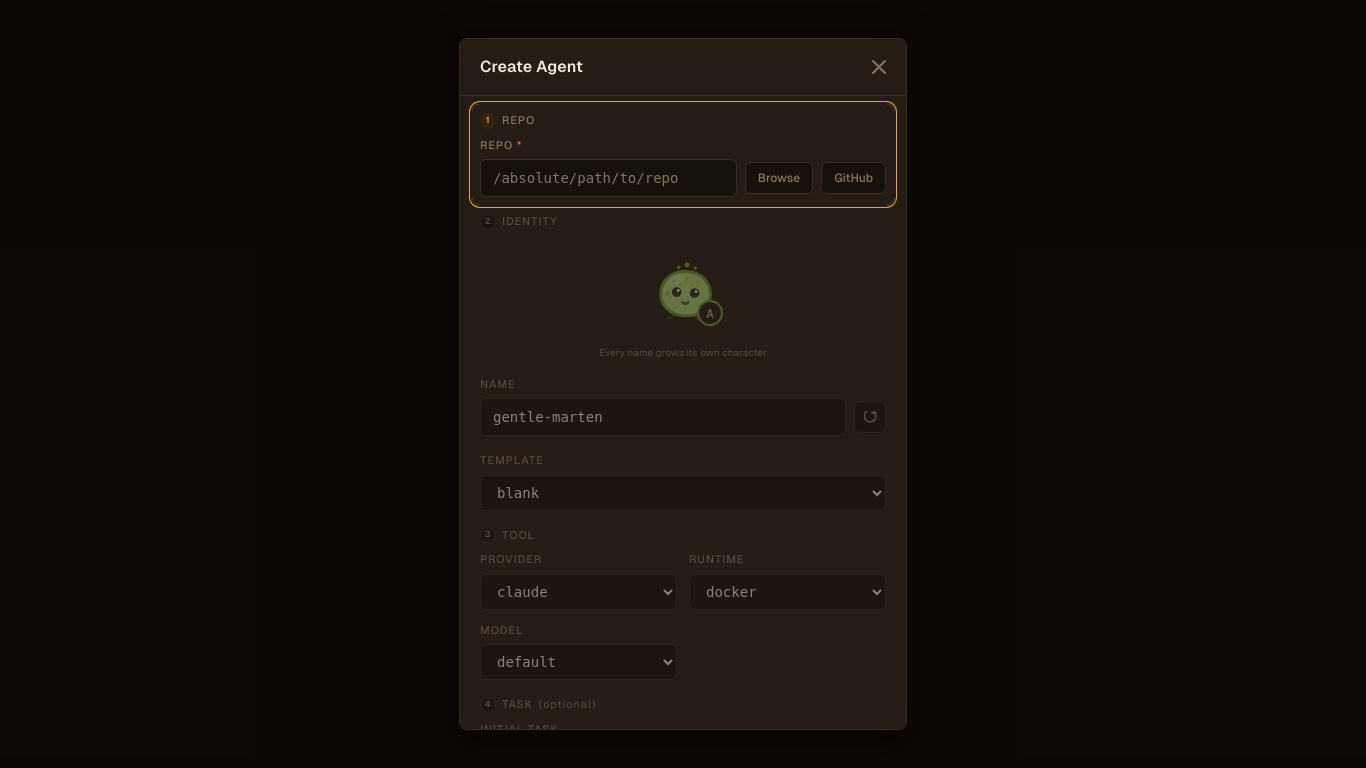
CreateAgentModal identity › keeps the regenerate button as 'meet a different agent'
The width and height of the screenshot is (1366, 768).
Click the button named "Meet a different agent" at [870, 417], box x1=854 y1=401 x2=886 y2=433
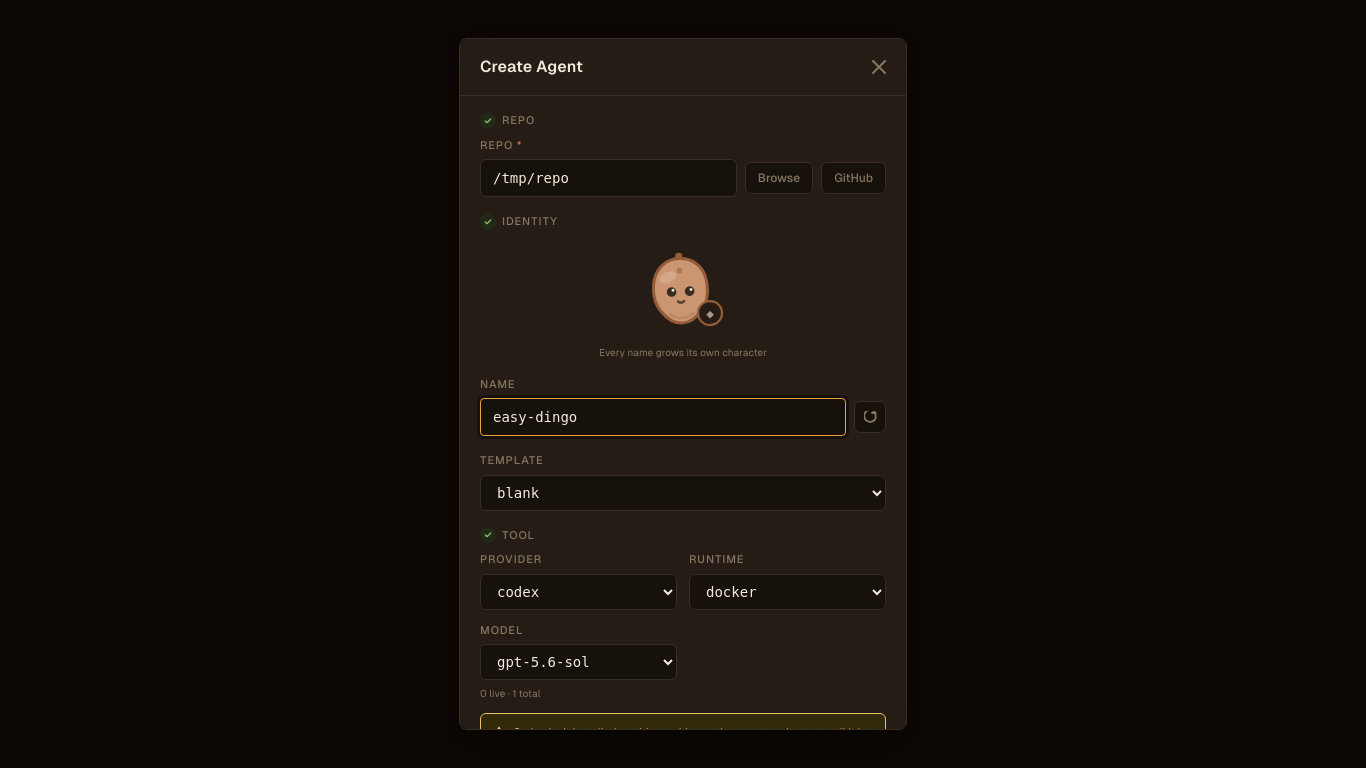
expect the field with placeholder "agent-name" below "Every name grows its own character" is not empty: met, box x1=480 y1=398 x2=846 y2=436
